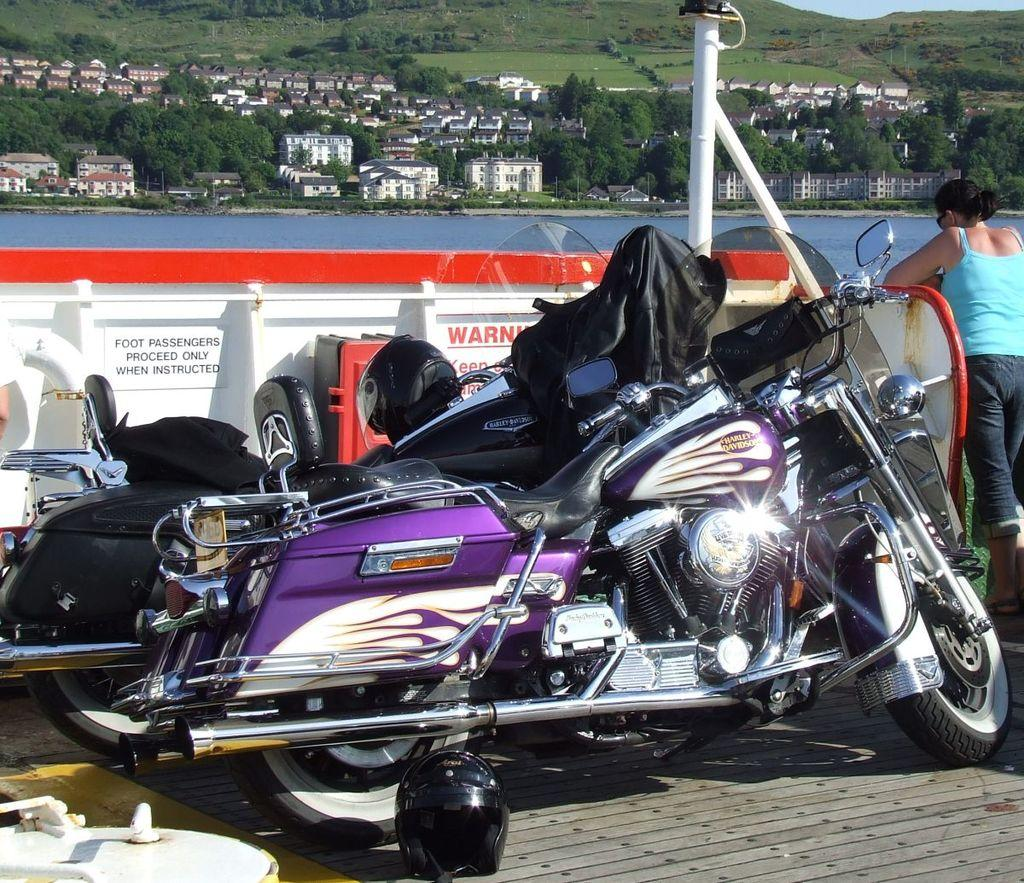helmet: (393, 748, 510, 874), (356, 333, 457, 452)
nohelmet: (934, 178, 999, 238)
